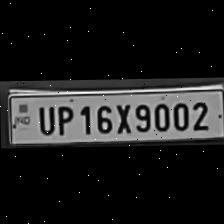0: (149, 98, 171, 130), (186, 97, 206, 130)
1: (74, 101, 92, 134)
2: (170, 98, 190, 130)
6: (92, 100, 114, 132)
9: (130, 99, 150, 132)
P: (52, 102, 74, 134)
U: (34, 101, 54, 133)
X: (113, 99, 131, 133)
